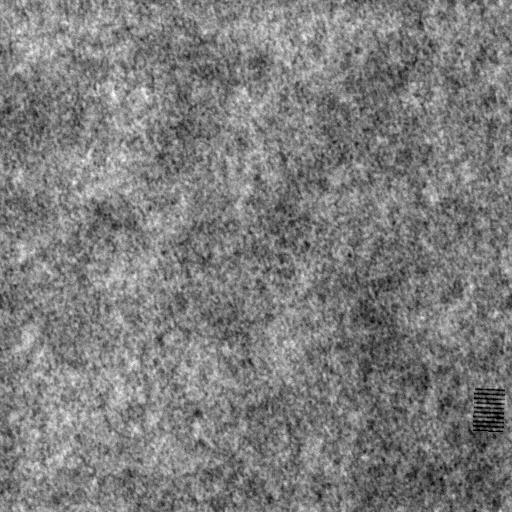DefectTypeB: (468, 385, 507, 433)
